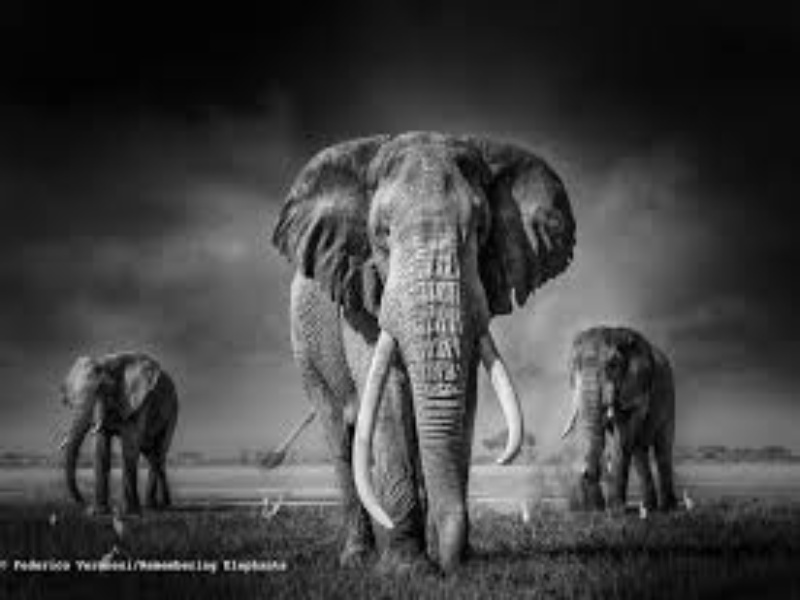elephant: (45, 127, 724, 573)
